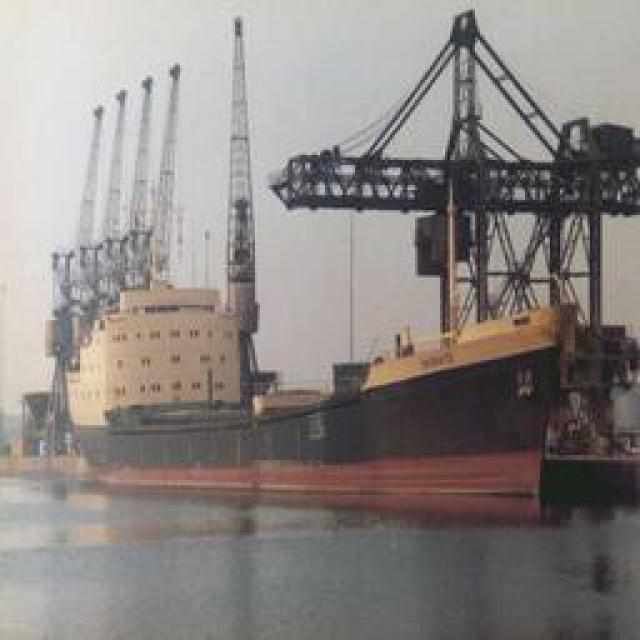Ship: (27, 244, 586, 519)
